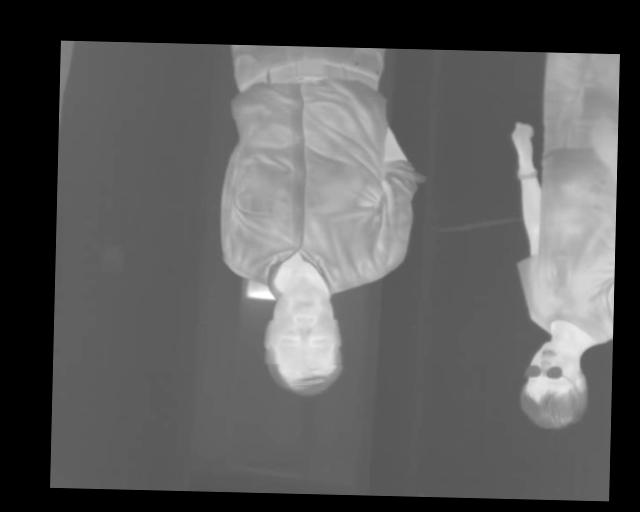face: (261, 281, 346, 397), (517, 338, 589, 431)
